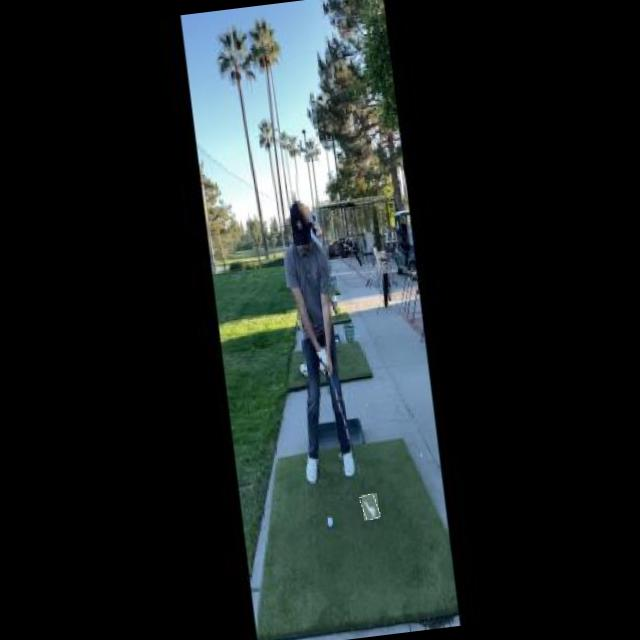club head: (360, 492, 380, 520)
